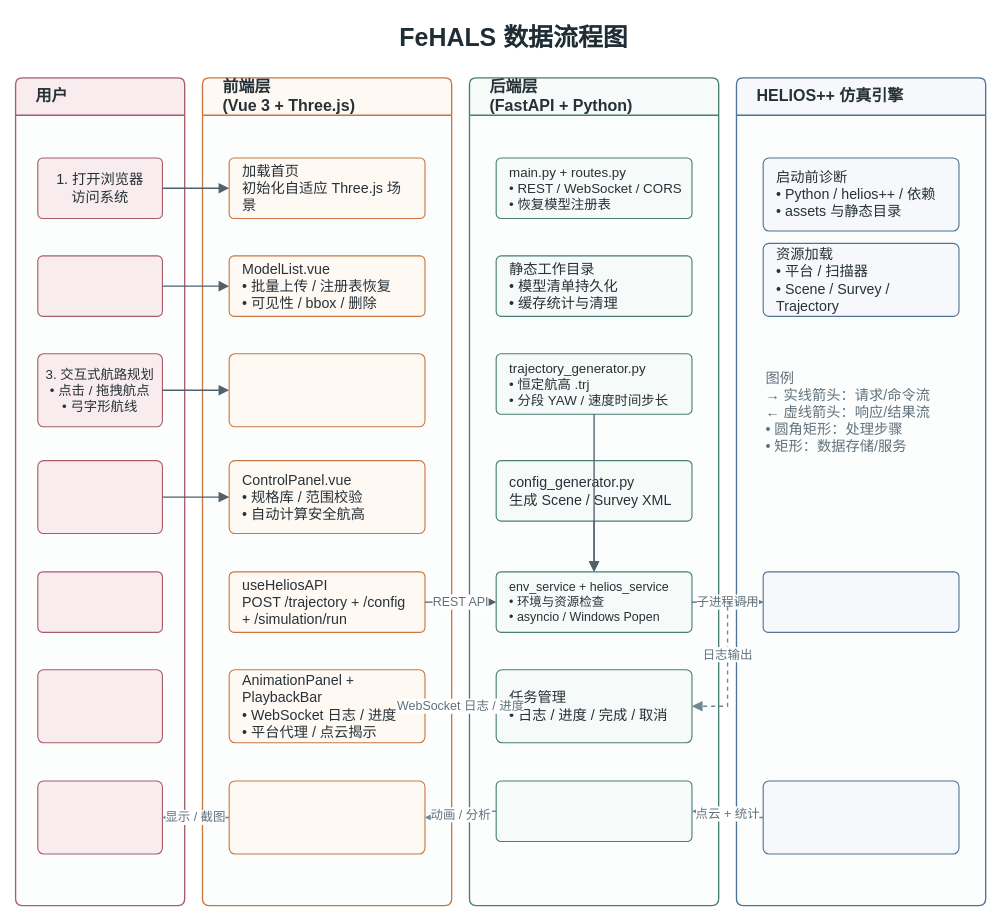
Image size: 1002x921. Some labels were removed from this diagram. The centre of each missing label's shape, as x and y in pixels:
"2. 上传三维模型 (OBJ/GLTF/GLB/STL，可批量)" belongs at (100,286).
"4. 配置并校验参数 • 平台 / 扫描器独立选择 • 建议航高" belongs at (100,497).
"5. 诊断环境并启动仿真" belongs at (100,602).
"6. 监控与回放仿真 • 日志 / 进度 / 取消 • 平台与点云生成动画" belongs at (100,706).
"7. 分析与导出结果 • 统计 / 直方图 / 覆盖度 • 截图与点云下载" belongs at (100,817).
"pointcloud_parser + coverage • 流式解析 / 统计 / 直方图 • 降采样 / XY 密度分析" belongs at (593,811).
"PointCloudPanel + CoverageHeatmap • 统计 / 直方图 / 热力图 • 截图、着色与下载" belongs at (326,817).
"Scene3D + WaypointList • 航点交互 / OrbitControls • useBowtie 弓字形生成" belongs at (326,390).
"光线追踪仿真 • 航线扫描 • 激光脉冲模拟" belongs at (860,602).
"结果输出 • XYZ（默认）/ LAS/LAZ（可选） • 实时日志" belongs at (860,817).
